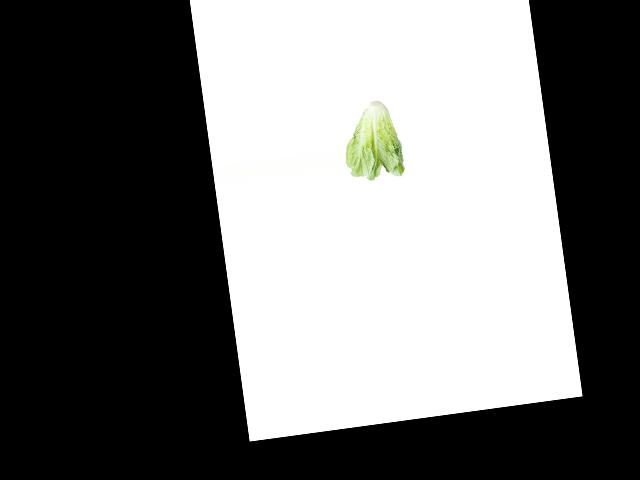lettuce: (338, 96, 407, 183)
